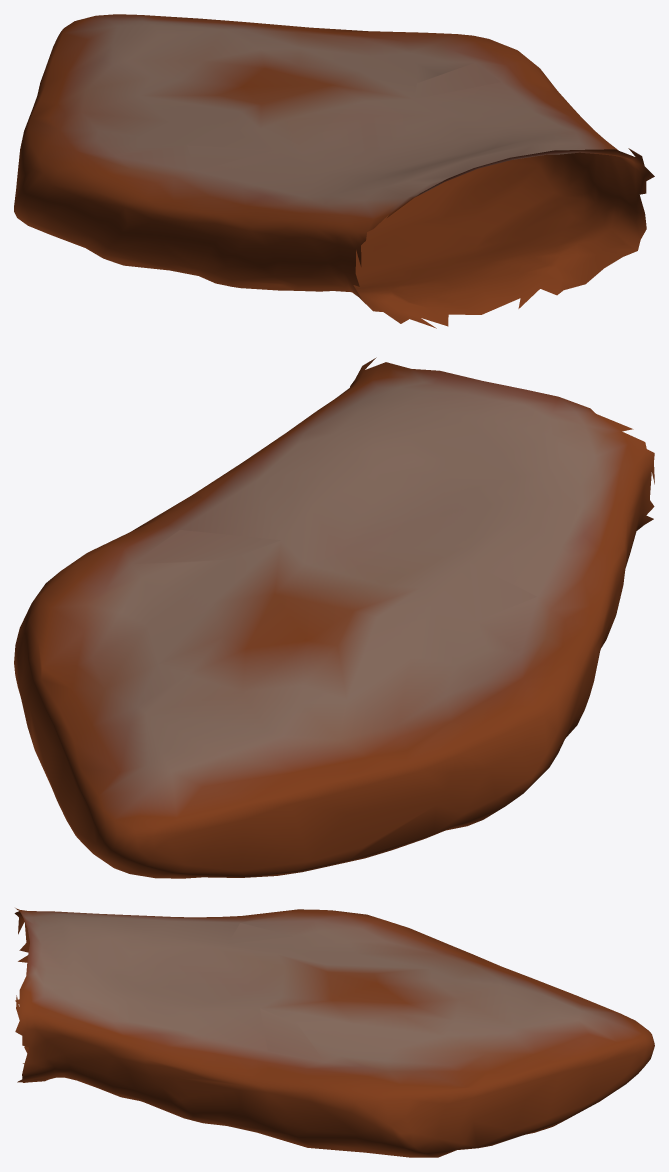
The model's file is sculpture_16.glb.
3 views of the same model, one above another, from view 1: azimuth 30°, elevation 25°; view 2: azimuth 150°, elevation 25°; view 3: azimuth 270°, elevation 25° (orthographic). The views are drawn at different scales.
Visible parts, largest first — view 1: SCL_01_08; view 2: SCL_01_08; view 3: SCL_01_08.
Part boxes in pixels (bbox=[...]): SCL_01_08: bbox=[14, 14, 654, 328]; SCL_01_08: bbox=[14, 357, 654, 878]; SCL_01_08: bbox=[14, 908, 654, 1157].
Bounding box in the file's own units: 0.2542 × 0.105 × 0.3563.
